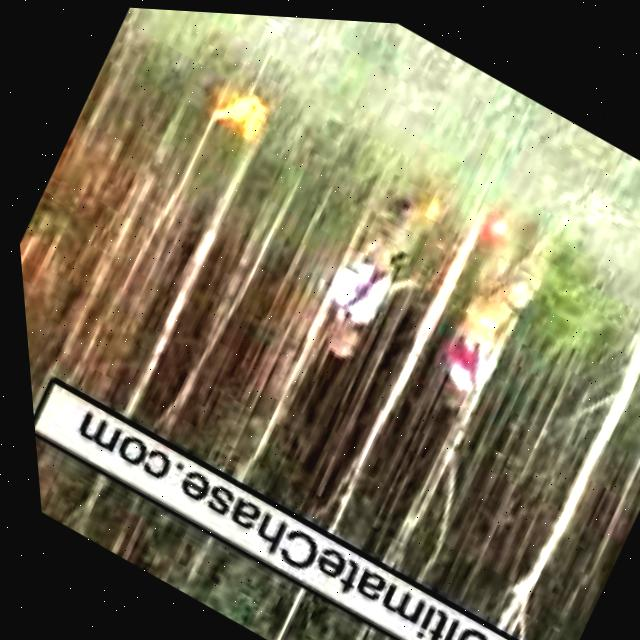Smoke: (205, 71, 274, 139)
